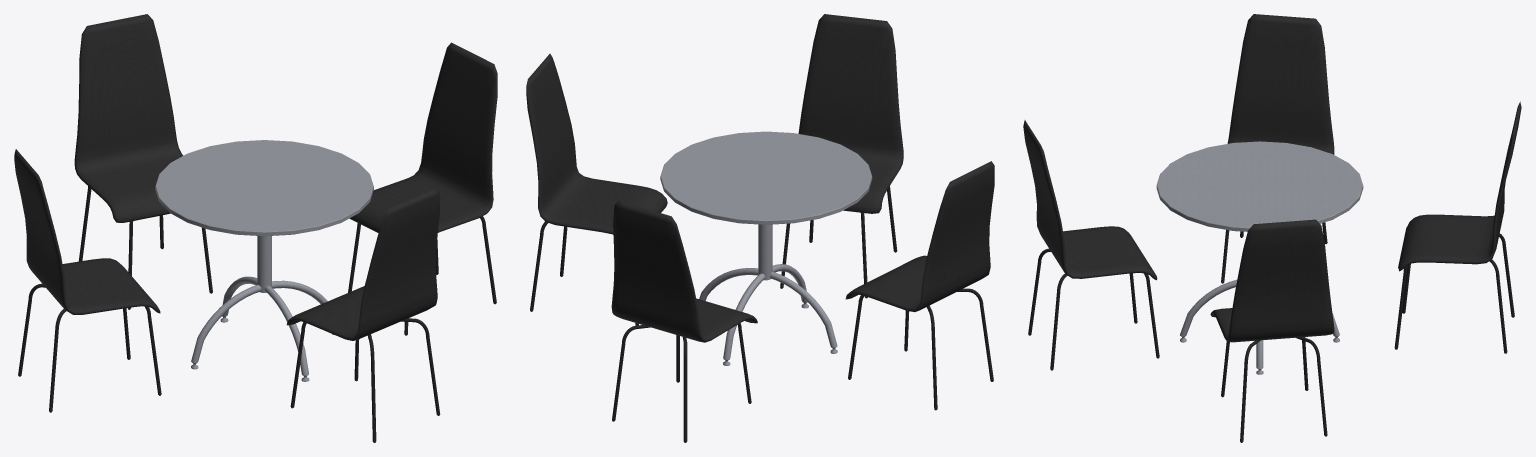
The model's file is modern kitchen table.obj.
3 renders of one model, left to right at view 1: azimuth 30°, elevation 25°; view 2: azimuth 150°, elevation 25°; view 3: azimuth 270°, elevation 25°, orthographic. The views are drawn at different scales.
Visible parts, largest first — view 1: Table_50.005, Chair4_50.004, Chair1_50.001, Chair3_50.002, Chair2_50.003; view 2: Table_50.005, Chair3_50.002, Chair4_50.004, Chair2_50.003, Chair1_50.001; view 3: Table_50.005, Chair1_50.001, Chair2_50.003, Chair3_50.002, Chair4_50.004.
Boxes of the visible parts, x1,y1,x2,y2 form: Table_50.005: (155,140,373,381); Chair4_50.004: (74,14,212,309); Chair1_50.001: (348,42,497,335); Chair3_50.002: (286,188,440,442); Chair2_50.003: (14,149,161,412); Table_50.005: (660,131,872,365); Chair3_50.002: (780,14,903,298); Chair4_50.004: (611,200,757,442); Chair2_50.003: (845,161,994,410); Chair1_50.001: (526,53,667,325); Table_50.005: (1156,141,1363,374); Chair1_50.001: (1210,219,1334,442); Chair2_50.003: (1221,14,1334,283); Chair3_50.002: (1023,120,1159,370); Chair4_50.004: (1394,101,1521,353).
Size of the model in its own units: 218 by 106 by 217.
Materials: 2 (2 with a texture image).
